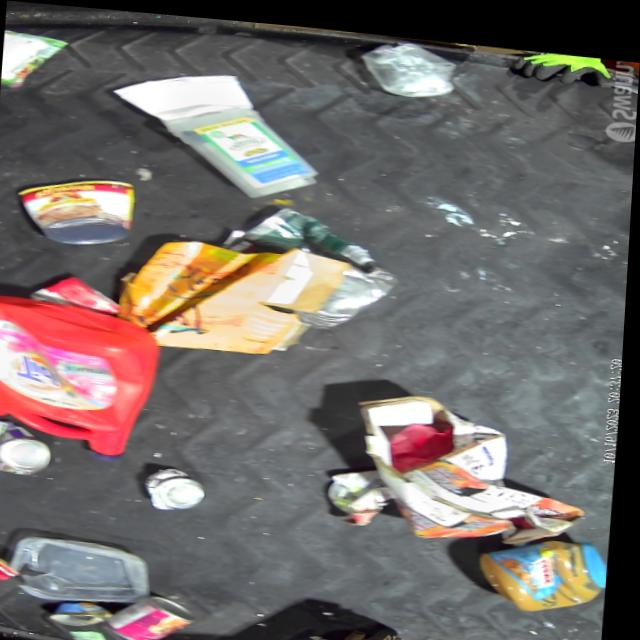can: (9, 169, 145, 249), (102, 583, 206, 640), (136, 460, 219, 511), (45, 592, 133, 640), (0, 418, 64, 479)
non_white_jug: (0, 288, 163, 455)
